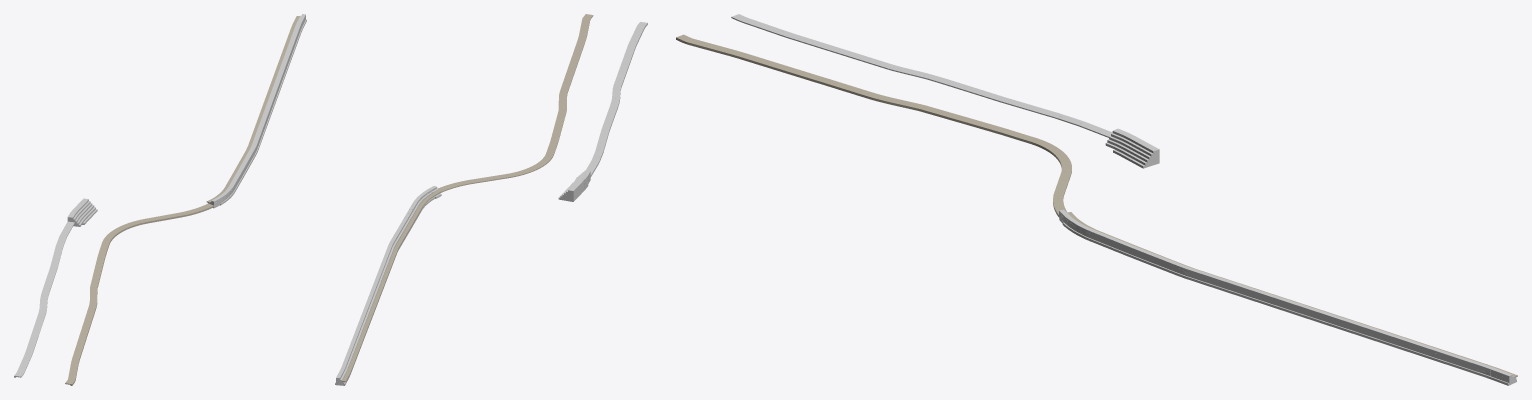
The model's file is 500125-CSSP001-501-XX-MD-BM-001103.glb.
The picture shows the model from 3 angles, left to right: view 1: azimuth 30°, elevation 25°; view 2: azimuth 210°, elevation 25°; view 3: azimuth 270°, elevation 25°; orthographic projection. The views are drawn at different scales.
Visible parts, largest first — view 1: 500125-CSSP001-501-XX-MD-BM-001103#OTR001, 500125-CSSP001-501-XX-MD-BM-001103#OTR002, 500125-CSSP001-501-XX-MD-BM-001103#GAV005, 500125-CSSP001-501-XX-MD-BM-001103#GAV007, 500125-CSSP001-501-XX-MD-BM-001103#GAV004; view 2: 500125-CSSP001-501-XX-MD-BM-001103#OTR001, 500125-CSSP001-501-XX-MD-BM-001103#OTR002, 500125-CSSP001-501-XX-MD-BM-001103#GAV005, 500125-CSSP001-501-XX-MD-BM-001103#GAV007, 500125-CSSP001-501-XX-MD-BM-001103#GAV004, 500125-CSSP001-501-XX-MD-BM-001103#GAV002; view 3: 500125-CSSP001-501-XX-MD-BM-001103#OTR001, 500125-CSSP001-501-XX-MD-BM-001103#OTR002, 500125-CSSP001-501-XX-MD-BM-001103#GAV005, 500125-CSSP001-501-XX-MD-BM-001103#GAV007.
Part boxes in pixels (x1,y1,x2,y2): 500125-CSSP001-501-XX-MD-BM-001103#OTR001: [208, 14, 306, 208]; 500125-CSSP001-501-XX-MD-BM-001103#OTR002: [14, 198, 97, 377]; 500125-CSSP001-501-XX-MD-BM-001103#GAV005: [90, 211, 189, 292]; 500125-CSSP001-501-XX-MD-BM-001103#GAV007: [65, 308, 94, 385]; 500125-CSSP001-501-XX-MD-BM-001103#GAV004: [186, 158, 244, 215]; 500125-CSSP001-501-XX-MD-BM-001103#OTR001: [335, 186, 441, 385]; 500125-CSSP001-501-XX-MD-BM-001103#OTR002: [558, 22, 647, 201]; 500125-CSSP001-501-XX-MD-BM-001103#GAV005: [461, 105, 566, 185]; 500125-CSSP001-501-XX-MD-BM-001103#GAV007: [562, 14, 593, 88]; 500125-CSSP001-501-XX-MD-BM-001103#GAV004: [401, 181, 464, 237]; 500125-CSSP001-501-XX-MD-BM-001103#GAV002: [358, 285, 383, 343]; 500125-CSSP001-501-XX-MD-BM-001103#OTR001: [1059, 209, 1516, 385]; 500125-CSSP001-501-XX-MD-BM-001103#OTR002: [731, 14, 1159, 168]; 500125-CSSP001-501-XX-MD-BM-001103#GAV005: [906, 102, 1071, 198]; 500125-CSSP001-501-XX-MD-BM-001103#GAV007: [676, 34, 868, 93].
Size of the model in its own units: 351 by 9.57 by 326.
